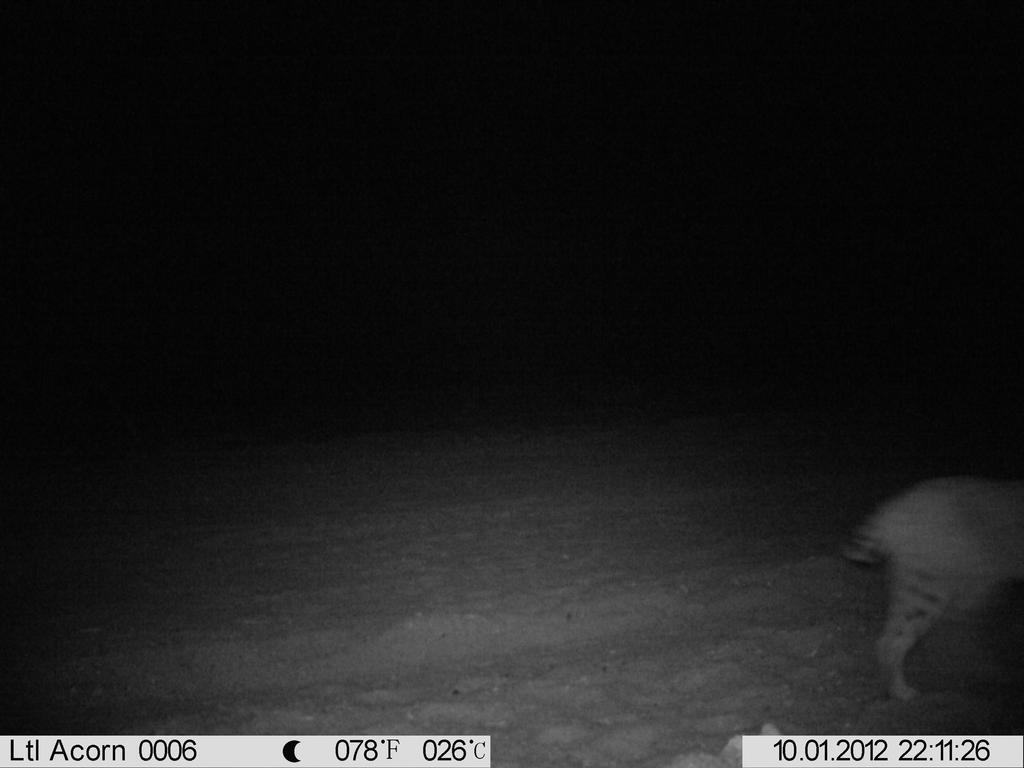bobcat: (845, 460, 1022, 703)
